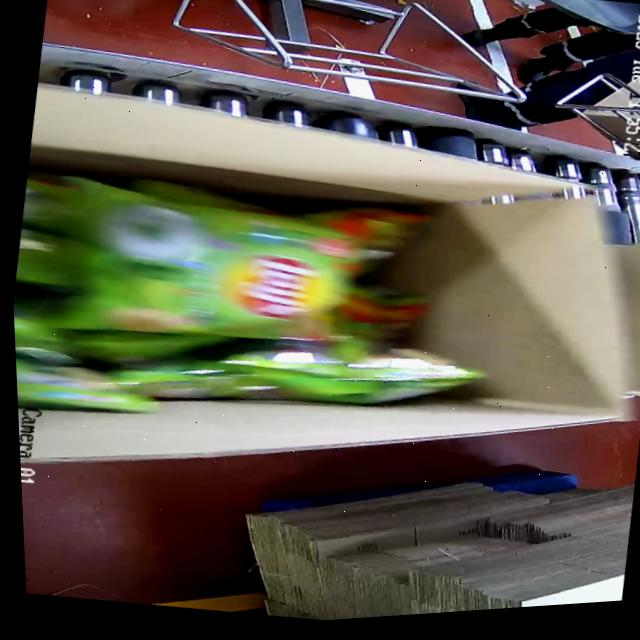YOGURT_HERB: (7, 135, 509, 497)
